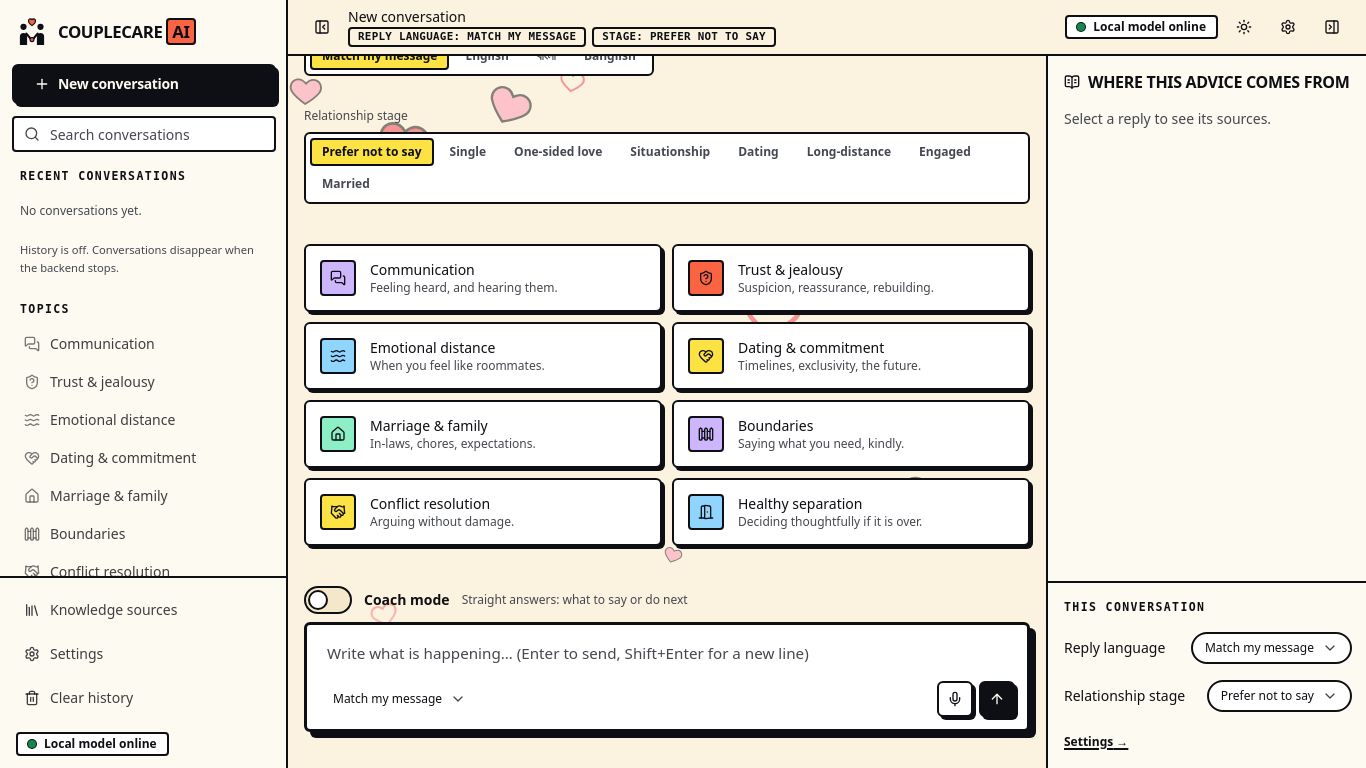
Chat page › labels pre-written safety responses as not generated
This screenshot has width=1366, height=768.
(page scrolled)
Type "He is outside my door with a knife" into the text box named "Your message" at [667, 651], box [307,625,1027,677]
Then press Enter
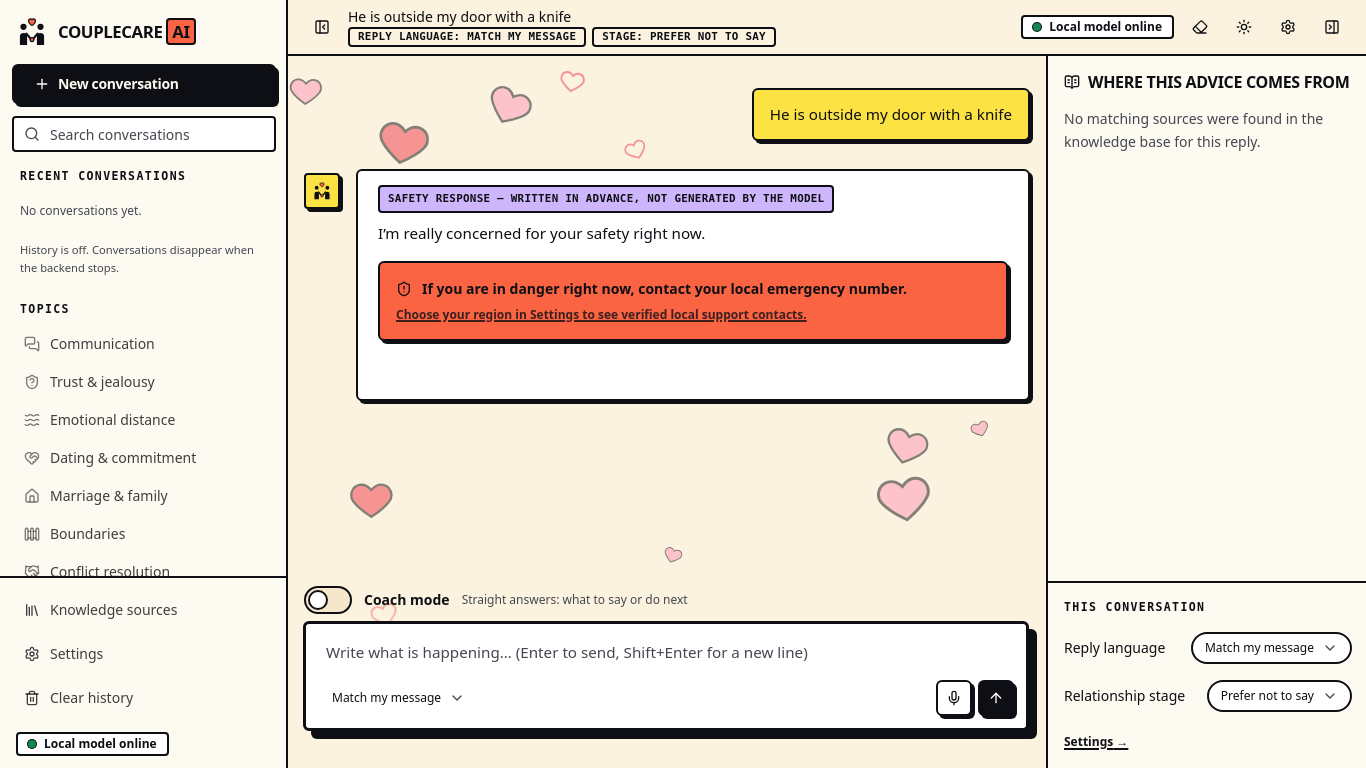
Expected: the text "written in advance, not generated" is shown, [388,192,824,205]
